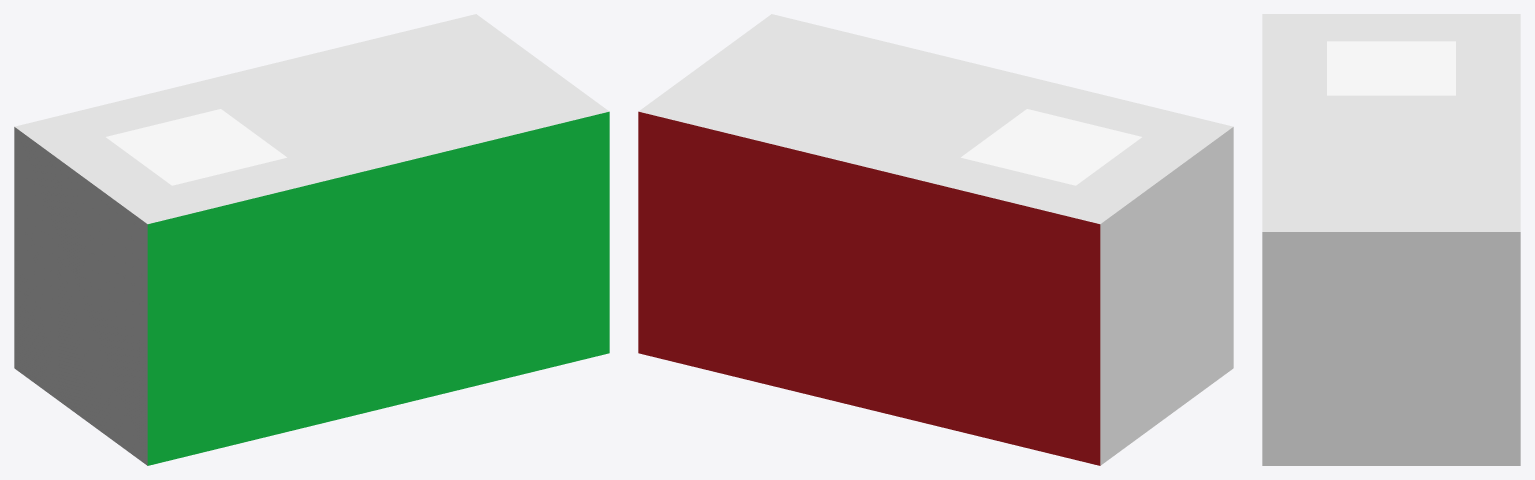
Rendered from CornellBox_Roughness.gltf.
3 renders of one model, left to right at view 1: azimuth 30°, elevation 25°; view 2: azimuth 150°, elevation 25°; view 3: azimuth 270°, elevation 25°, orthographic. The views are drawn at different scales.
Parts seen in each view (by area): view 1: Cube; view 2: Cube; view 3: Cube.
Part boxes in pixels (x1,y1,x2,y2): Cube: (14, 14, 609, 465); Cube: (638, 14, 1233, 465); Cube: (1262, 14, 1520, 465).
Bounding box in the file's own units: 16 × 8 × 8.
8 materials, 7 textured.
